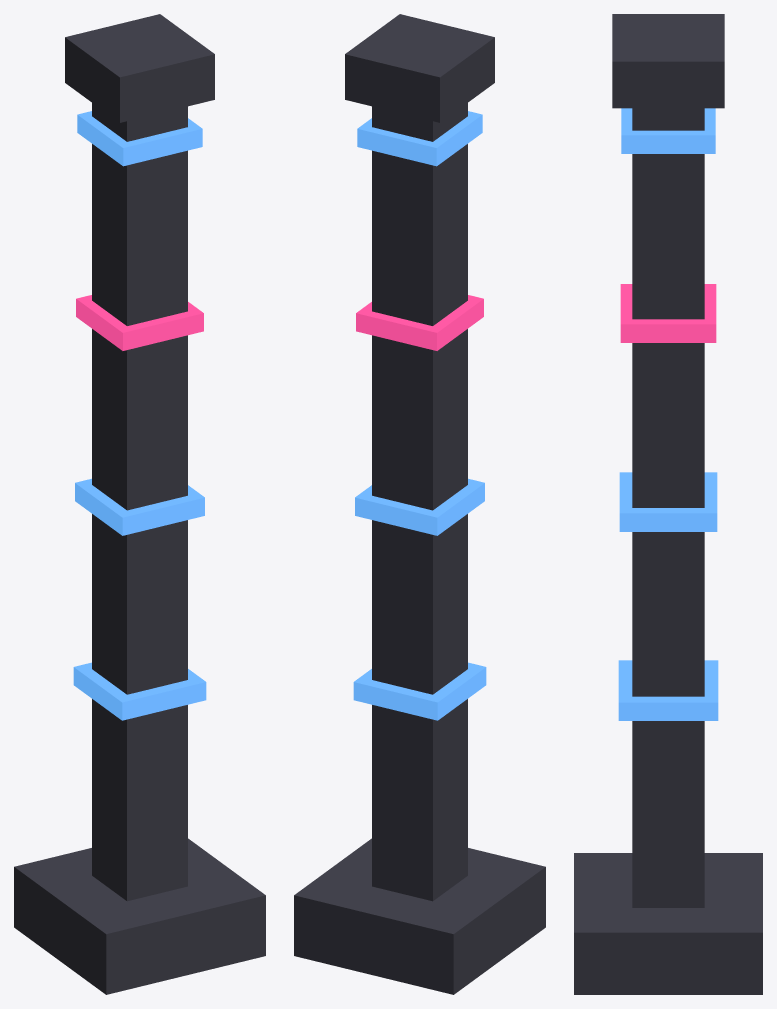
The model's file is runtime.glb.
3 views of the same model, side by side, from view 1: azimuth 30°, elevation 25°; view 2: azimuth 150°, elevation 25°; view 3: azimuth 270°, elevation 25° (orthographic). The views are drawn at different scales.
Parts seen in each view (by area): view 1: neon_pylon_post_nocol, neon_pylon_band_blue_noshadow_nocol, neon_pylon_band_red_noshadow_nocol; view 2: neon_pylon_post_nocol, neon_pylon_band_blue_noshadow_nocol, neon_pylon_band_red_noshadow_nocol; view 3: neon_pylon_post_nocol, neon_pylon_band_blue_noshadow_nocol, neon_pylon_band_red_noshadow_nocol.
Part boxes in pixels (bbox=[...]): neon_pylon_post_nocol: bbox=[14, 14, 265, 994]; neon_pylon_band_blue_noshadow_nocol: bbox=[73, 111, 206, 720]; neon_pylon_band_red_noshadow_nocol: bbox=[76, 295, 203, 350]; neon_pylon_post_nocol: bbox=[294, 14, 545, 994]; neon_pylon_band_blue_noshadow_nocol: bbox=[353, 111, 486, 720]; neon_pylon_band_red_noshadow_nocol: bbox=[356, 295, 483, 350]; neon_pylon_post_nocol: bbox=[574, 14, 762, 994]; neon_pylon_band_blue_noshadow_nocol: bbox=[618, 108, 718, 720]; neon_pylon_band_red_noshadow_nocol: bbox=[620, 284, 716, 342].
Bounding box in the file's own units: 1.1 × 5.9 × 1.1.
